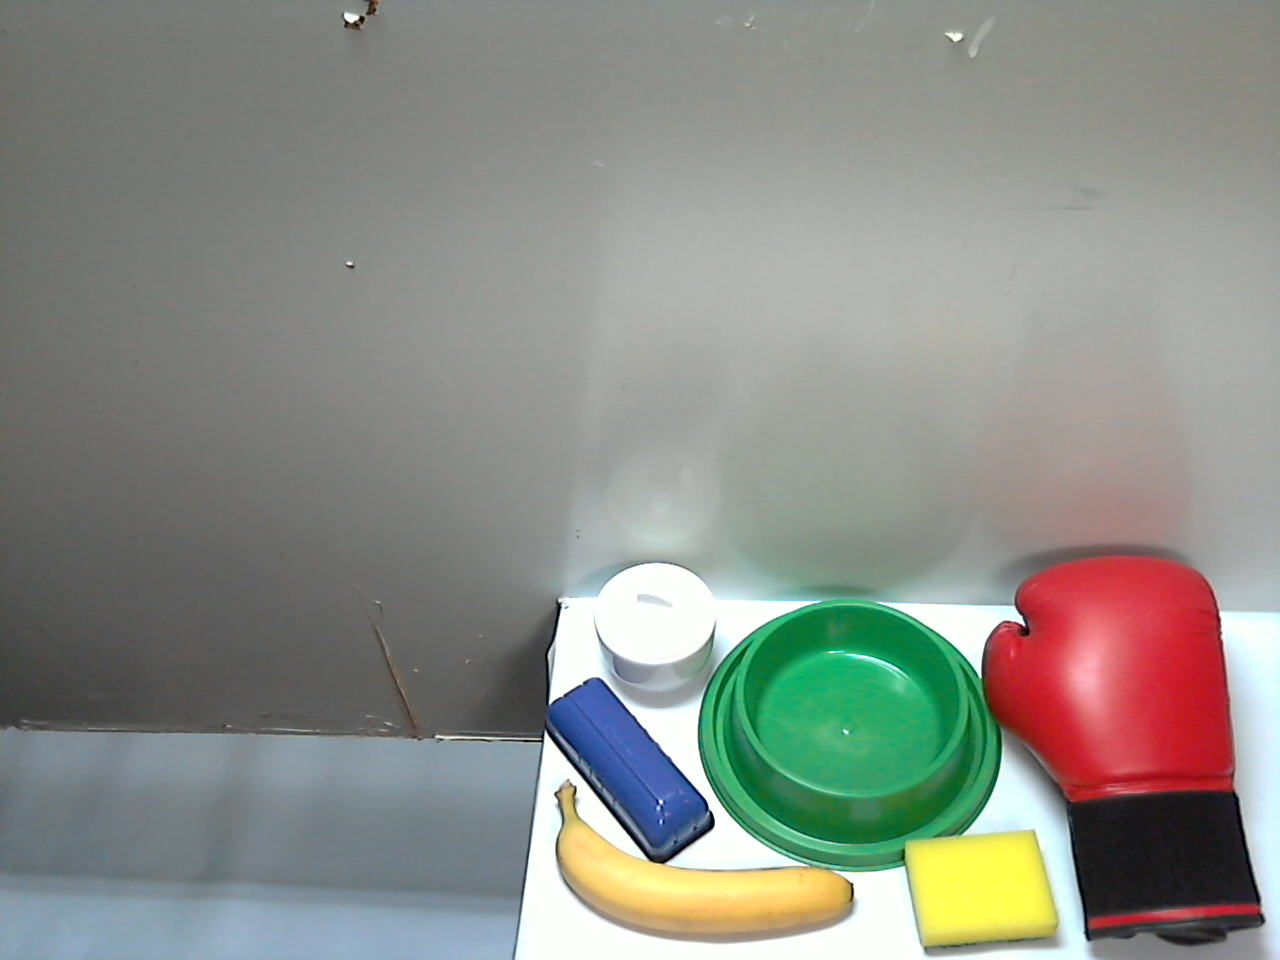cloroplano: (462, 512, 672, 813)
estuche: (438, 781, 694, 938)
greda: (659, 617, 881, 819)
jabon: (689, 831, 797, 960)
pelota: (798, 844, 920, 960)
platoperro: (871, 672, 1198, 960)
